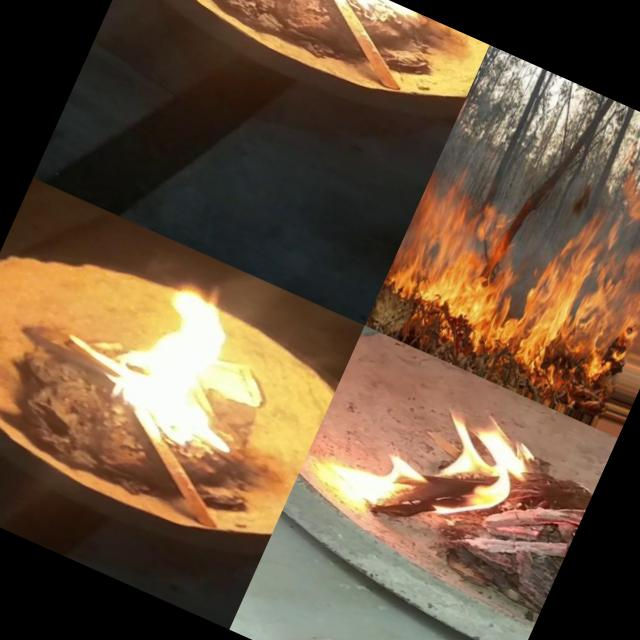fire: (376, 119, 640, 400), (306, 356, 550, 566), (90, 270, 311, 490), (241, 0, 451, 57)
